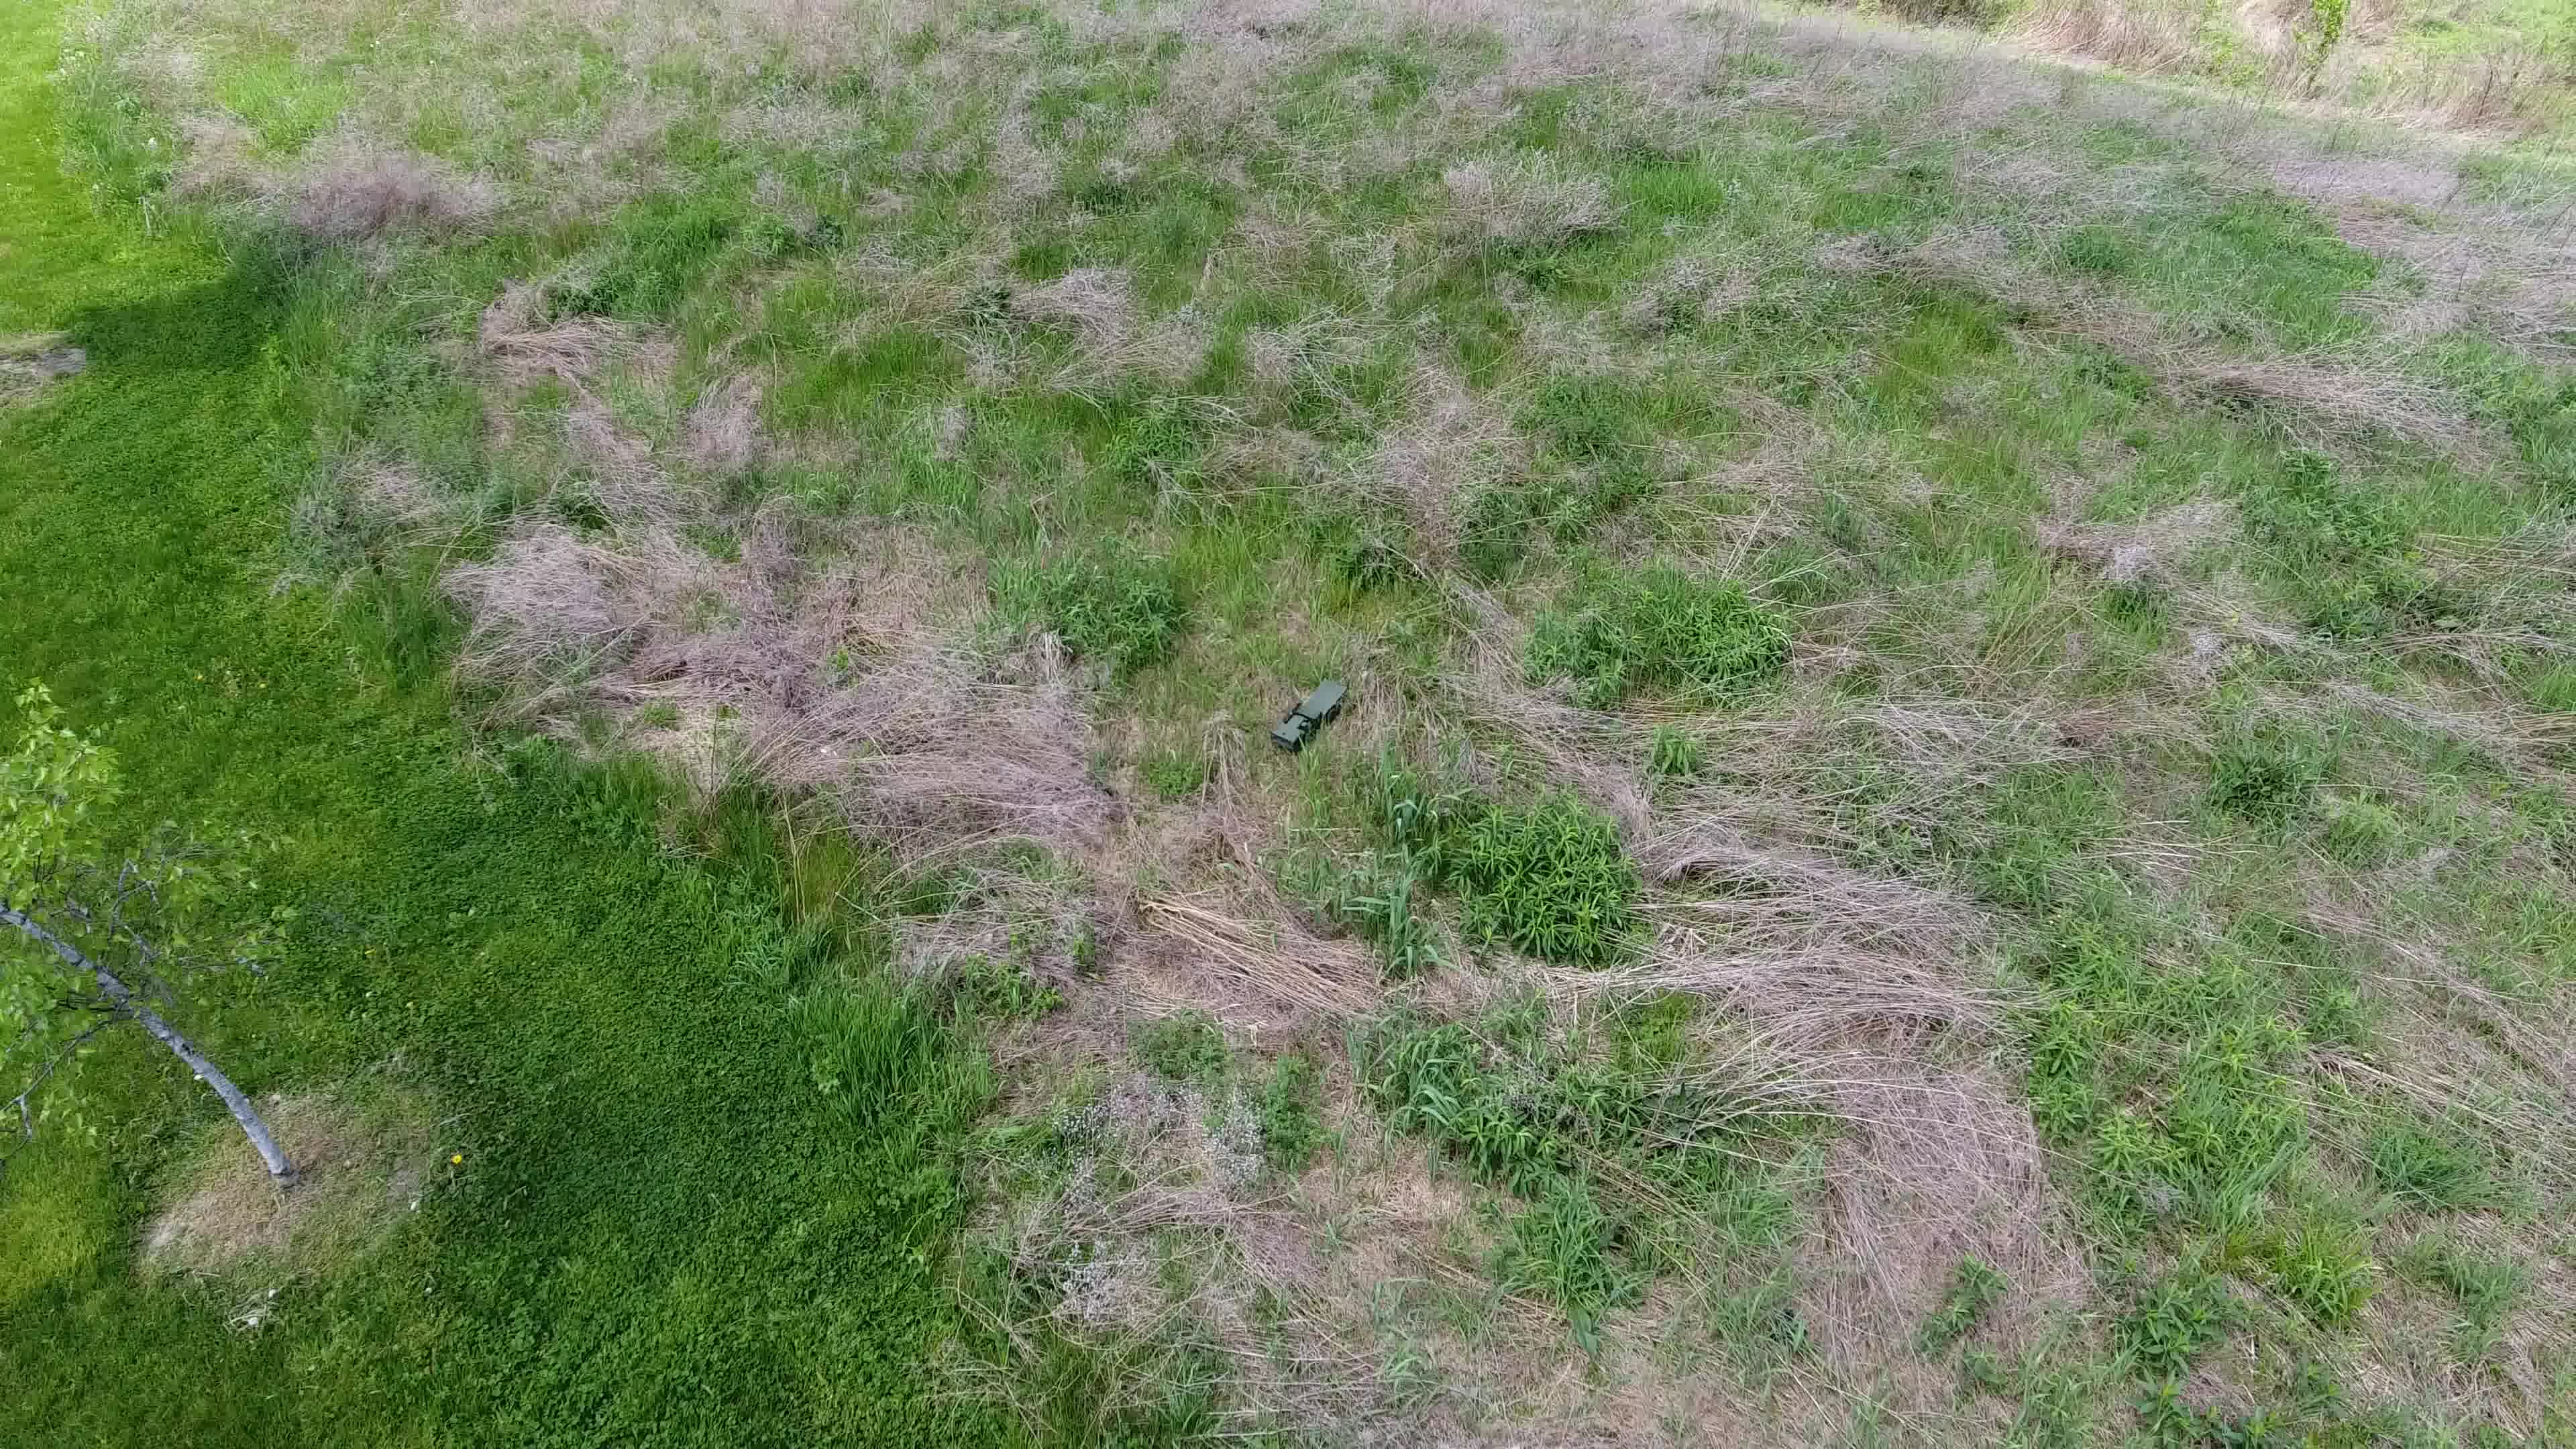transporter9: (1267, 672, 1350, 757)
